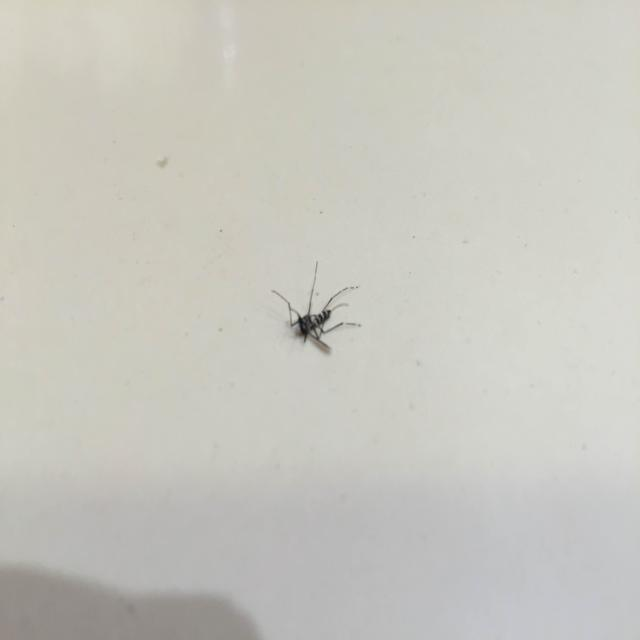albopictus: (269, 254, 366, 359)
